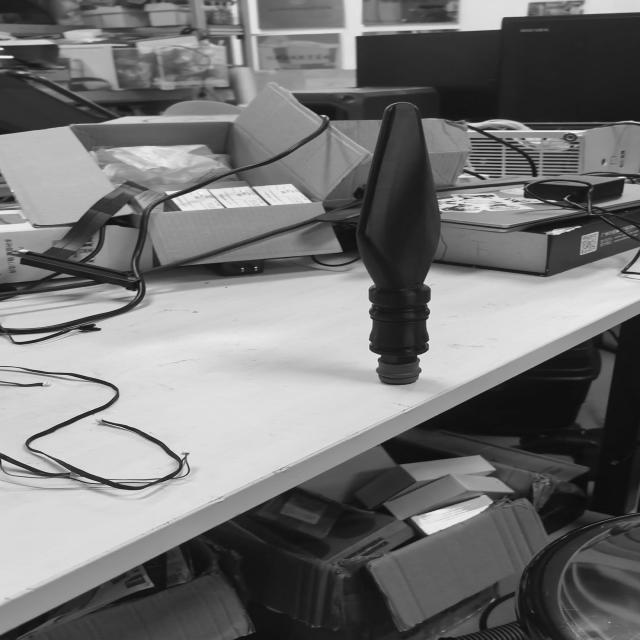base: (372, 359, 424, 386)
